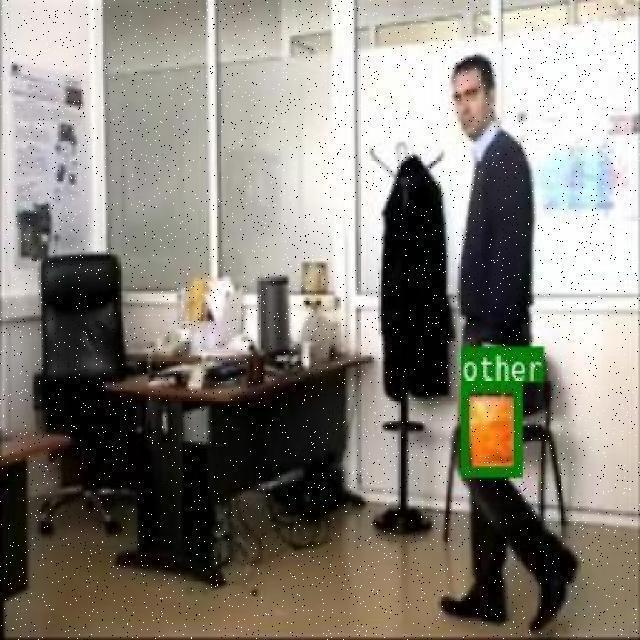Smoke: (459, 380, 521, 474)
